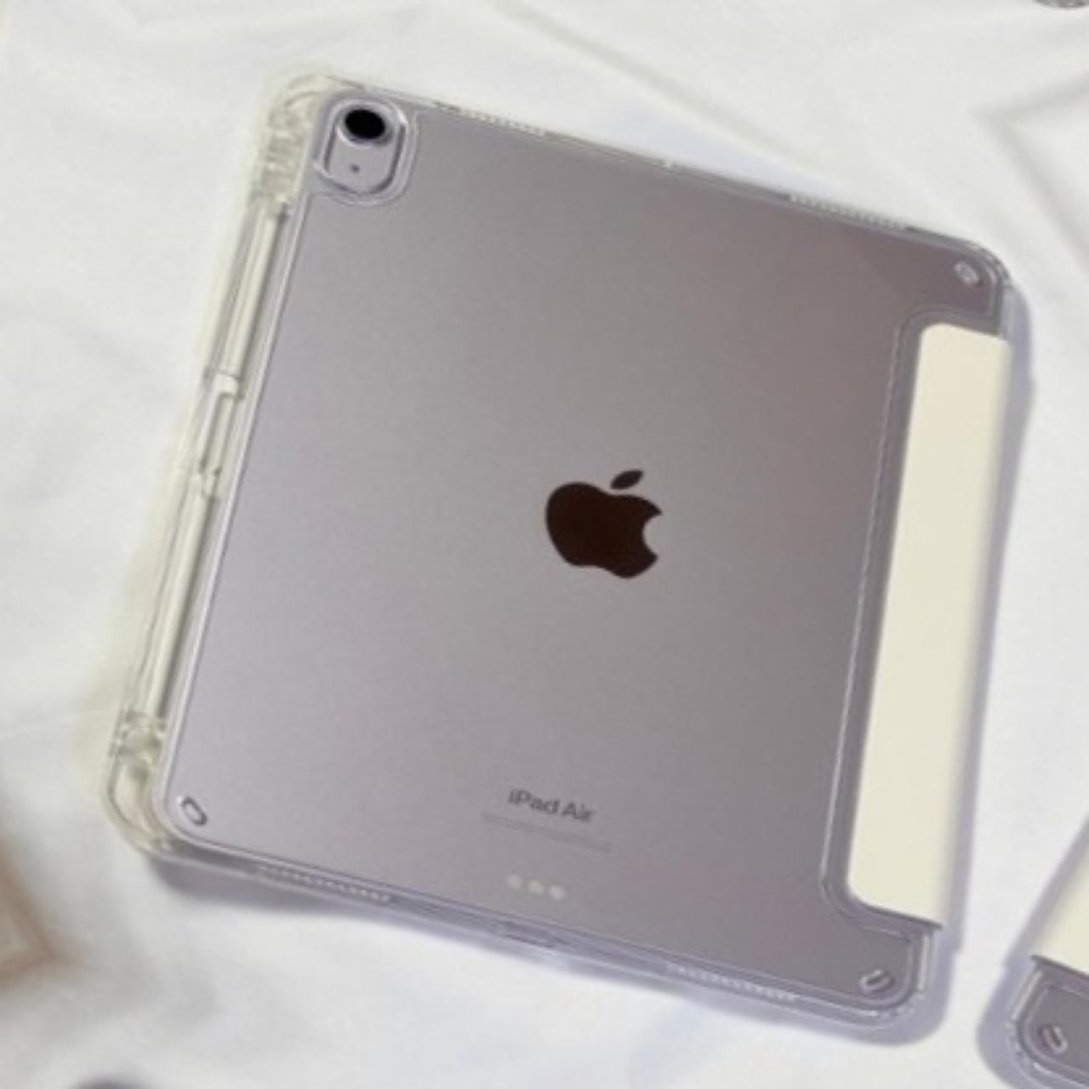Tablet_PC: (11, 16, 1089, 1089)
